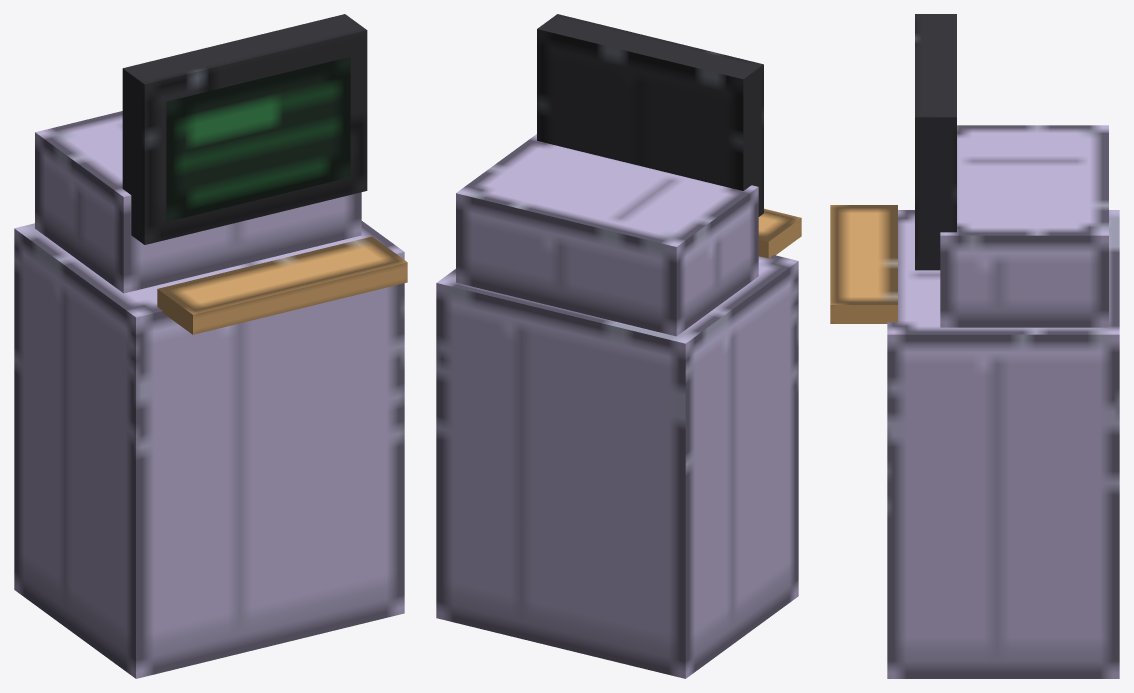
Rendered from Kiosk.obj.
3 views of the same model, side by side, from view 1: azimuth 30°, elevation 25°; view 2: azimuth 150°, elevation 25°; view 3: azimuth 270°, elevation 25° (orthographic). The views are drawn at different scales.
Parts seen in each view (by area): view 1: Kiosk; view 2: Kiosk; view 3: Kiosk.
Boxes of the visible parts, x1,y1,x2,y2 form: Kiosk: [14, 14, 407, 678]; Kiosk: [436, 14, 801, 678]; Kiosk: [830, 14, 1119, 678].
Bounding box in the file's own units: 0.7 × 1.44 × 0.685.
Materials: 1 (1 with a texture image).
